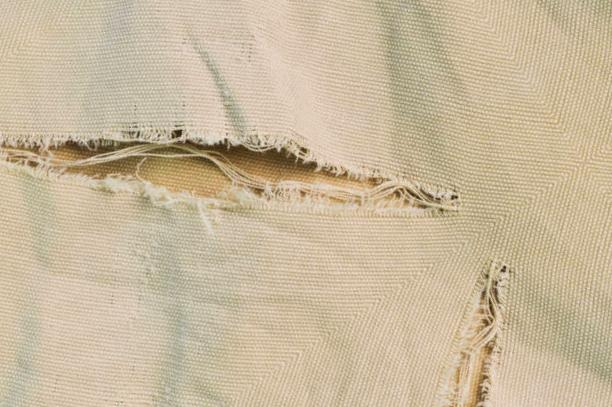hole: (2, 130, 464, 218), (447, 259, 511, 403)
